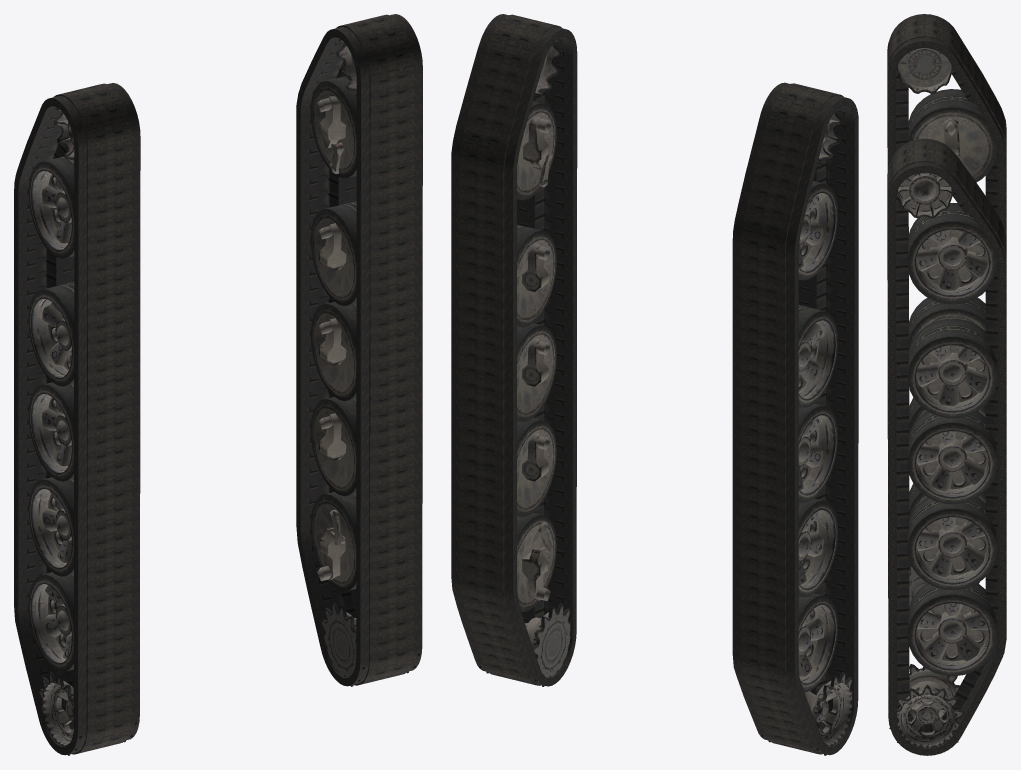
File: Chassis.glb
3 views of the same model, side by side, from view 1: azimuth 30°, elevation 25°; view 2: azimuth 150°, elevation 25°; view 3: azimuth 270°, elevation 25° (orthographic). The views are drawn at different scales.
Visible parts, largest first — view 1: set_0_group_0, set_1_group_0, set_3_group_0, set_2_group_0; view 2: set_1_group_0, set_0_group_0, set_3_group_0, set_2_group_0; view 3: set_3_group_0, set_0_group_0, set_2_group_0, set_1_group_0.
Boxes of the visible parts, x1,y1,x2,y2 form: set_0_group_0: [296, 14, 422, 686]; set_1_group_0: [14, 83, 140, 755]; set_3_group_0: [310, 39, 420, 686]; set_2_group_0: [28, 108, 137, 755]; set_1_group_0: [732, 82, 858, 755]; set_0_group_0: [451, 14, 577, 686]; set_3_group_0: [479, 39, 570, 686]; set_2_group_0: [761, 107, 852, 755]; set_3_group_0: [889, 172, 997, 747]; set_0_group_0: [887, 138, 1006, 755]; set_2_group_0: [896, 48, 997, 605]; set_1_group_0: [887, 14, 1006, 583].
Size of the model in its own units: 3.22 by 5.86 by 1.07.
4 materials, 4 textured.
